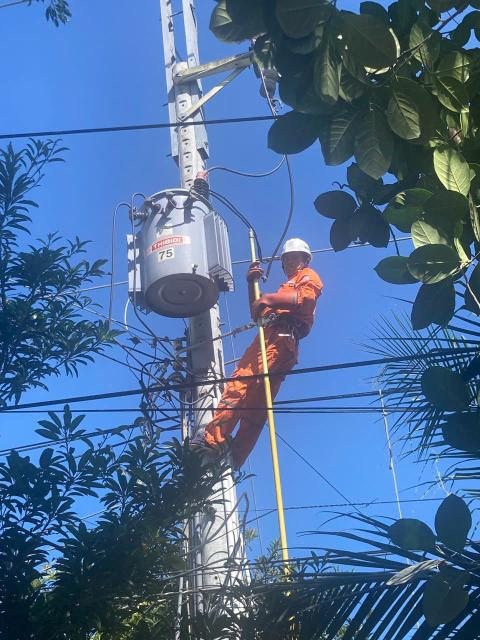gloves: (247, 292, 306, 316), (242, 263, 267, 319)
harness: (257, 308, 311, 343)
helmet: (272, 235, 326, 264)
shoes: (179, 431, 225, 455)
